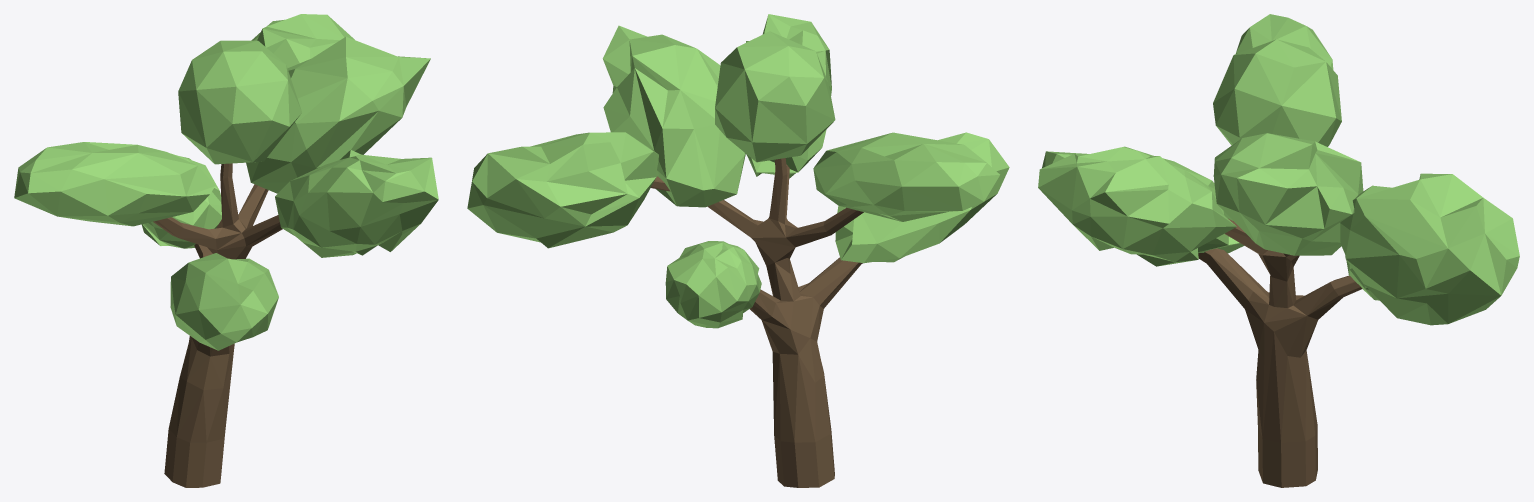
The model's file is Tree1.1.LOD.fbx.
3 renders of one model, left to right at view 1: azimuth 30°, elevation 25°; view 2: azimuth 150°, elevation 25°; view 3: azimuth 270°, elevation 25°, orthographic. The views are drawn at different scales.
Visible parts, largest first — view 1: Tree1.1_LOD0; view 2: Tree1.1_LOD0; view 3: Tree1.1_LOD0.
Part boxes in pixels (x1=…): Tree1.1_LOD0: x1=14, y1=14, x2=438, y2=487; Tree1.1_LOD0: x1=467, y1=14, x2=1009, y2=487; Tree1.1_LOD0: x1=1038, y1=14, x2=1519, y2=487.
Size of what is drawn, in the model's own units: 1687 by 1606 by 1560.
1 material, 1 textured.
